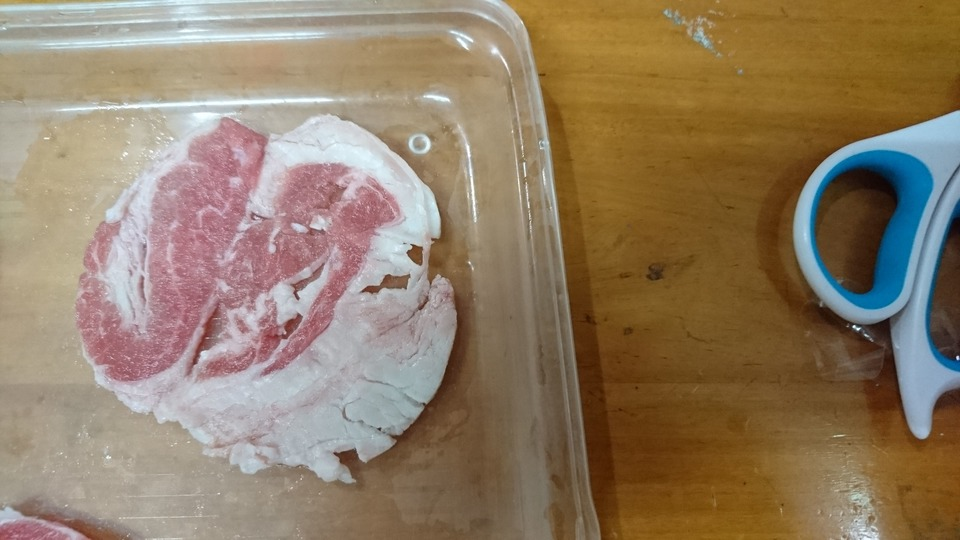restructured meat: (72, 103, 479, 484)
